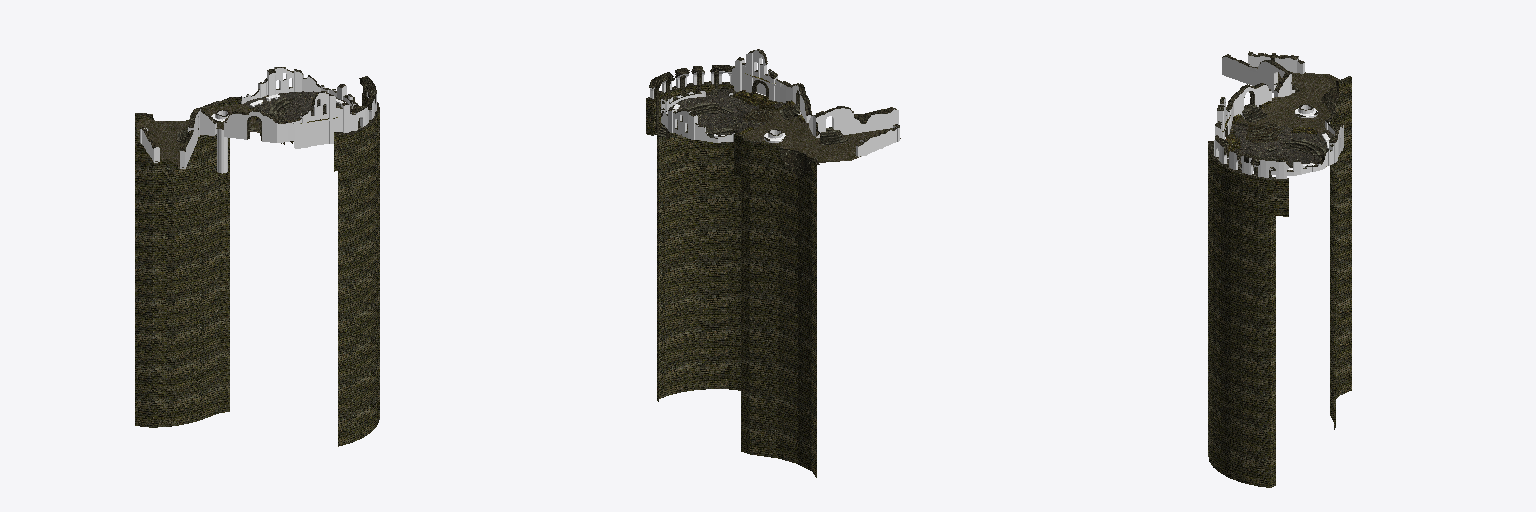
The picture shows the model from 3 angles: view 1: azimuth 30°, elevation 25°; view 2: azimuth 150°, elevation 25°; view 3: azimuth 270°, elevation 25°; orthographic projection.
Parts seen in each view (by area): view 1: mesh5, mesh3, mesh0, mesh8, mesh6, mesh1, mesh16; view 2: mesh5, mesh3, mesh0, mesh8, mesh1, mesh6, mesh4, mesh9; view 3: mesh5, mesh3, mesh0, mesh8, mesh1, mesh6, mesh10.
Part boxes in pixels (x1,y1,x2,y2): mesh5: (135,98,379,446); mesh3: (140,73,376,168); mesh0: (136,104,260,167); mesh8: (135,67,379,151); mesh6: (140,67,376,150); mesh1: (244,91,352,123); mesh16: (211,94,345,173); mesh5: (646,89,816,477); mesh3: (650,55,899,156); mesh0: (731,106,900,162); mesh8: (646,49,899,178); mesh1: (669,89,784,137); mesh6: (650,50,899,147); mesh4: (654,72,799,137); mesh9: (656,89,847,144); mesh5: (1208,77,1351,487); mesh3: (1214,57,1343,178); mesh0: (1236,72,1339,133); mesh8: (1208,51,1350,180); mesh1: (1227,124,1333,168); mesh6: (1214,53,1343,170); mesh10: (1225,101,1317,154).
Size of the model in its own units: 37.08 by 53.08 by 19.73.
17 materials, 9 textured.